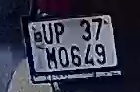0: (56, 44, 72, 69)
3: (77, 16, 92, 43)
4: (83, 44, 95, 67)
6: (69, 45, 82, 68)
7: (91, 18, 105, 43)
9: (94, 44, 109, 66)
M: (45, 47, 58, 70)
P: (53, 21, 66, 46)
U: (41, 22, 56, 45)
